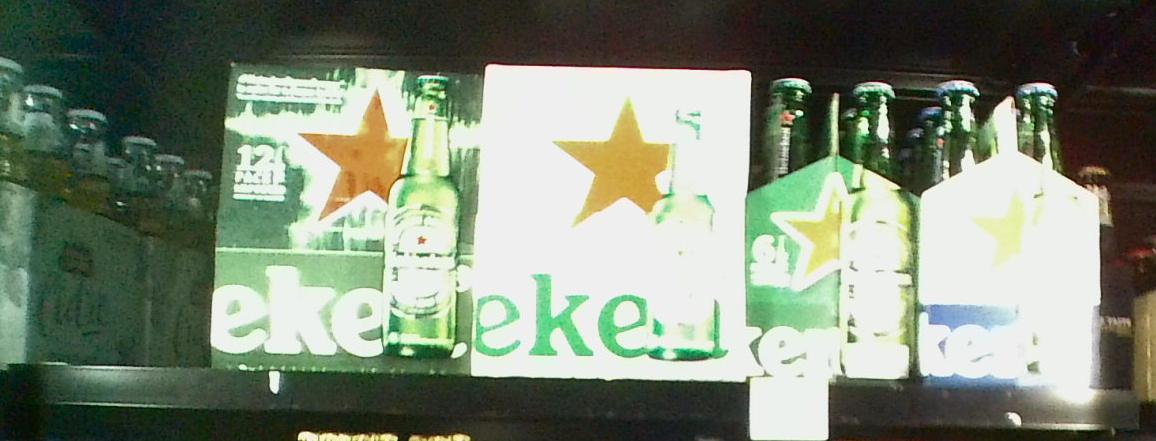bottle: (483, 56, 740, 383), (220, 59, 483, 376), (920, 73, 1105, 385), (748, 73, 916, 380)
